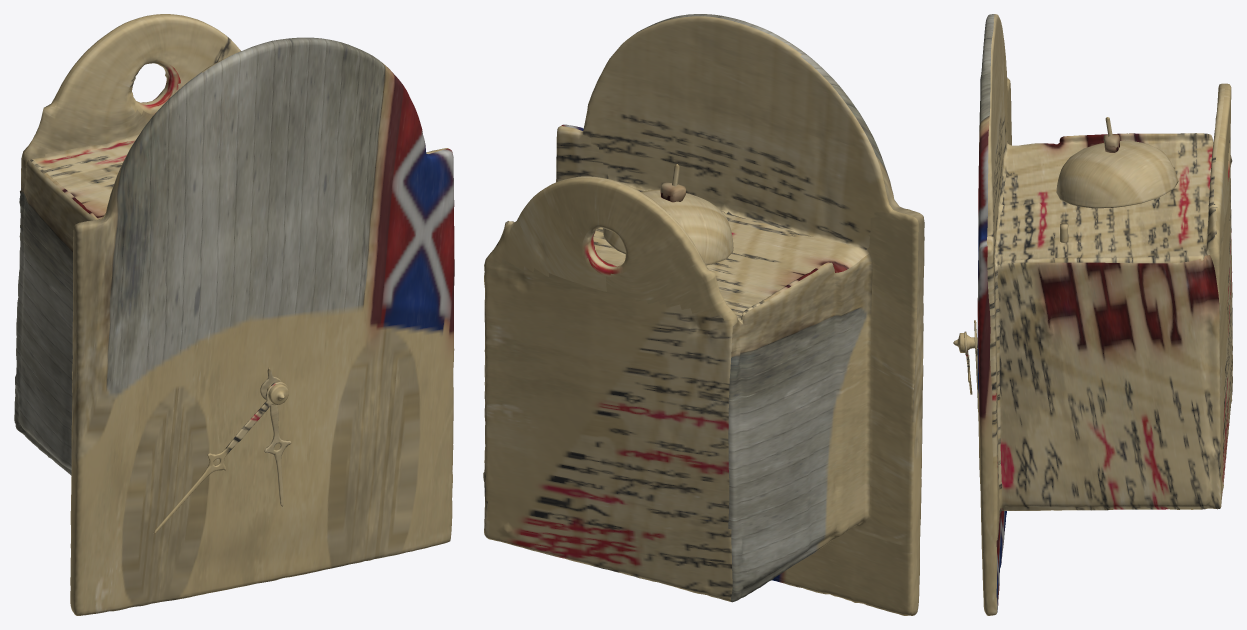
File: Clock.fbx
The picture shows the model from 3 angles, left to right: view 1: azimuth 30°, elevation 25°; view 2: azimuth 150°, elevation 25°; view 3: azimuth 270°, elevation 25°; orthographic projection. The views are drawn at different scales.
Visible parts, largest first — view 1: Object_2; view 2: Object_2; view 3: Object_2.
Part boxes in pixels (left/top/right/bottom): Object_2: left=14, top=14, right=454, bottom=615; Object_2: left=483, top=14, right=924, bottom=615; Object_2: left=953, top=14, right=1232, bottom=615.
Size of the model in its own units: 19697 by 27660 by 13857.
